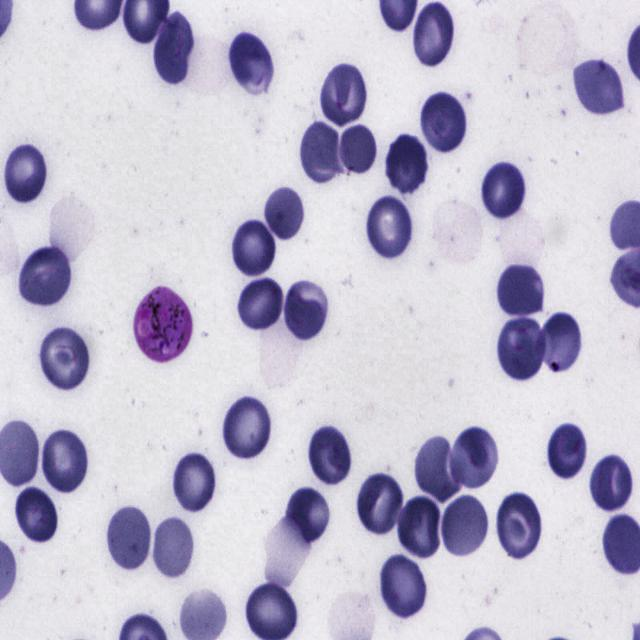gametocyte: (133, 286, 193, 365)
red blood cell: (16, 244, 74, 310), (220, 391, 274, 461), (40, 324, 92, 393), (39, 425, 89, 496), (244, 577, 300, 640), (364, 192, 414, 262), (104, 502, 153, 572), (496, 490, 544, 561), (410, 0, 458, 70), (440, 491, 490, 558), (418, 91, 469, 156), (415, 435, 463, 504), (496, 316, 546, 382), (379, 552, 428, 619), (450, 426, 500, 491), (298, 120, 347, 186), (226, 27, 275, 92), (356, 469, 404, 535), (2, 140, 48, 208), (153, 11, 194, 86), (170, 450, 218, 514), (282, 280, 330, 344), (320, 63, 368, 127), (152, 511, 194, 583), (573, 58, 624, 117), (480, 158, 527, 222), (306, 423, 352, 487), (396, 494, 442, 558), (588, 450, 634, 512), (384, 132, 430, 194), (14, 486, 62, 545), (537, 312, 582, 374), (497, 263, 545, 321), (237, 275, 284, 333), (230, 219, 276, 278), (286, 486, 330, 543), (547, 421, 588, 480), (263, 186, 305, 242), (338, 123, 377, 176)
